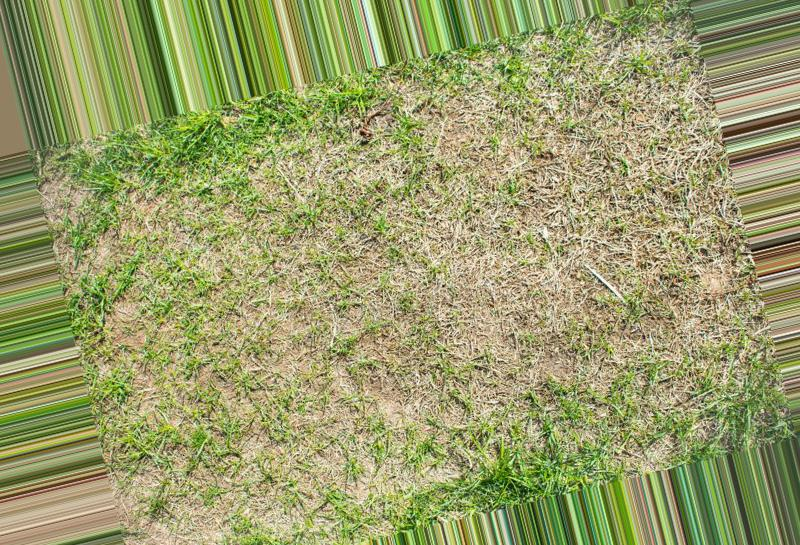patch: (102, 179, 611, 437), (644, 153, 728, 418)
